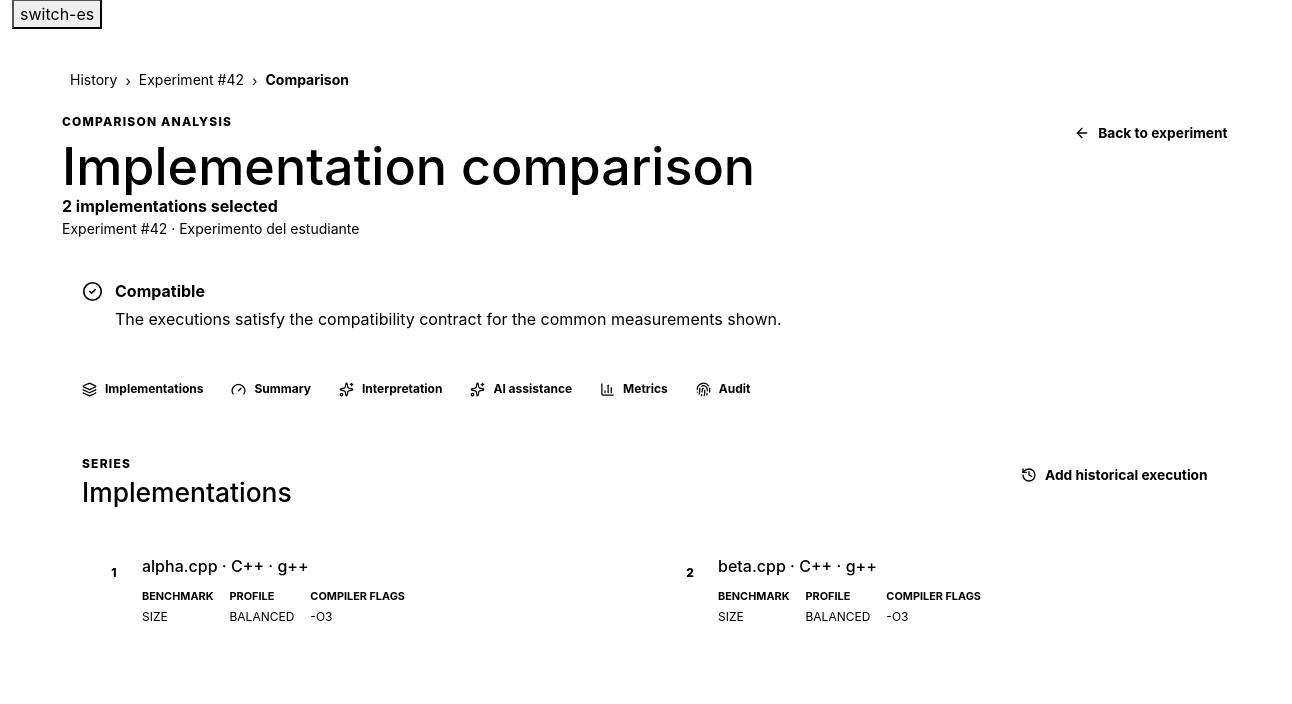
it: ComparisonPage i18n › localizes historical candidate reasons instead of rendering raw backend Spanish
This screenshot has width=1292, height=704.
Expected: the heading "Implementation comparison" is shown, [62,139,755,194]
Step 1. Click the button "Add historical execution" → (1114, 475), box [1007,455,1222,495]
(page scrolled)
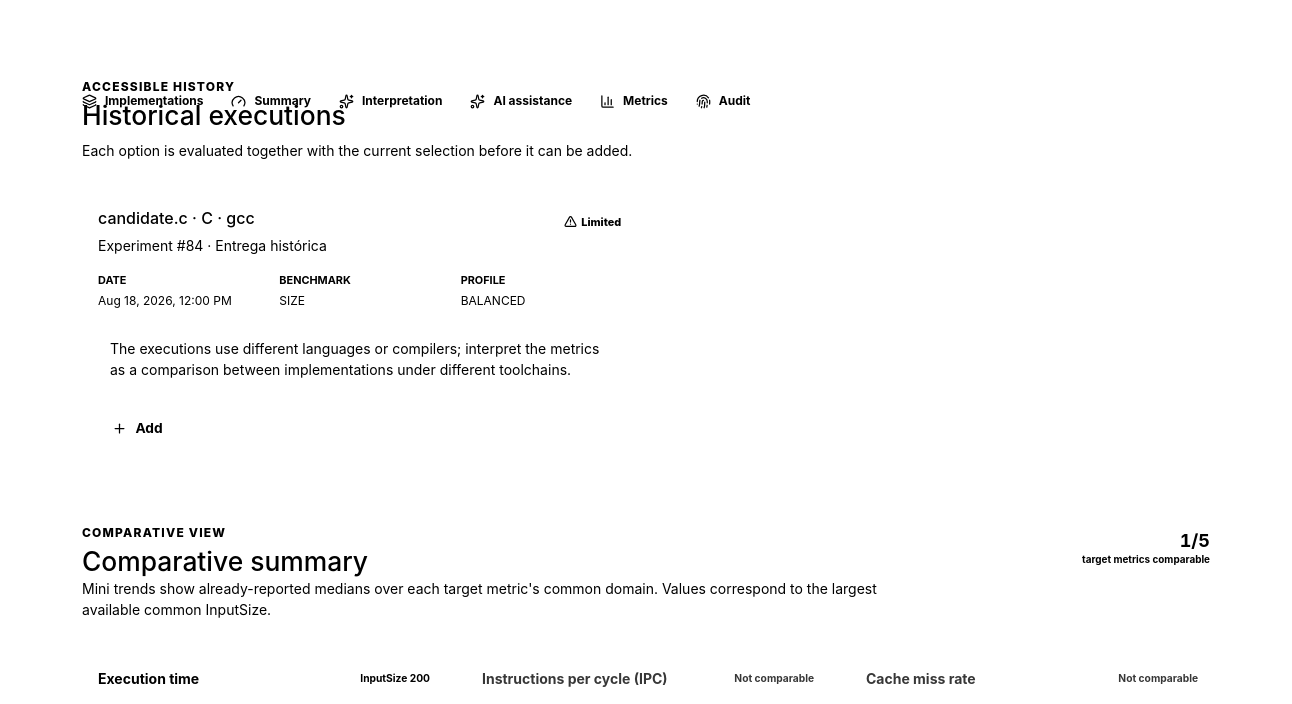
Expected: the text "The executions use different languages or compilers; interpret the metrics as a comparison between implementations under" is shown, [110,340,599,378]
